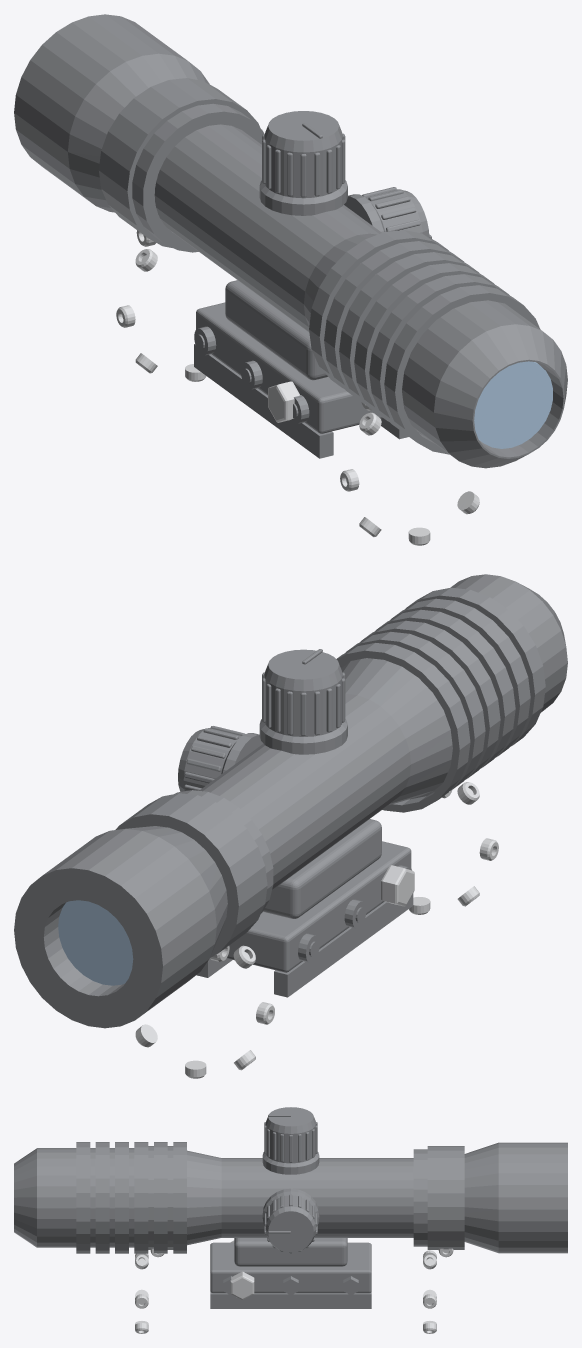
The model's file is mod-carbine-optic-33368.glb.
The picture shows the model from 3 angles, top to bottom: view 1: azimuth 30°, elevation 25°; view 2: azimuth 150°, elevation 25°; view 3: azimuth 270°, elevation 25°; orthographic projection. The views are drawn at different scales.
Bounding box in the file's own units: 1.19 × 2.04 × 4.77.
